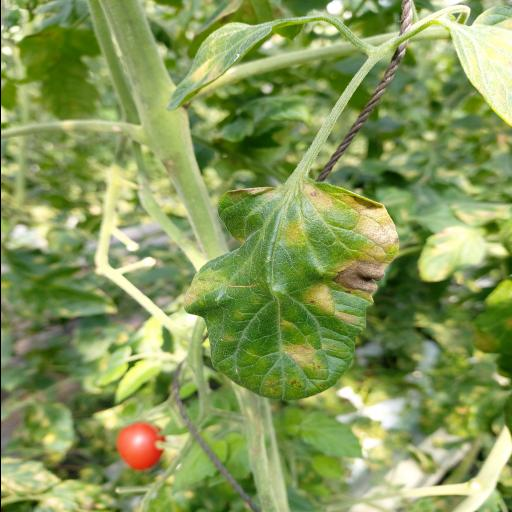Leaf Mold: (180, 176, 400, 402)
